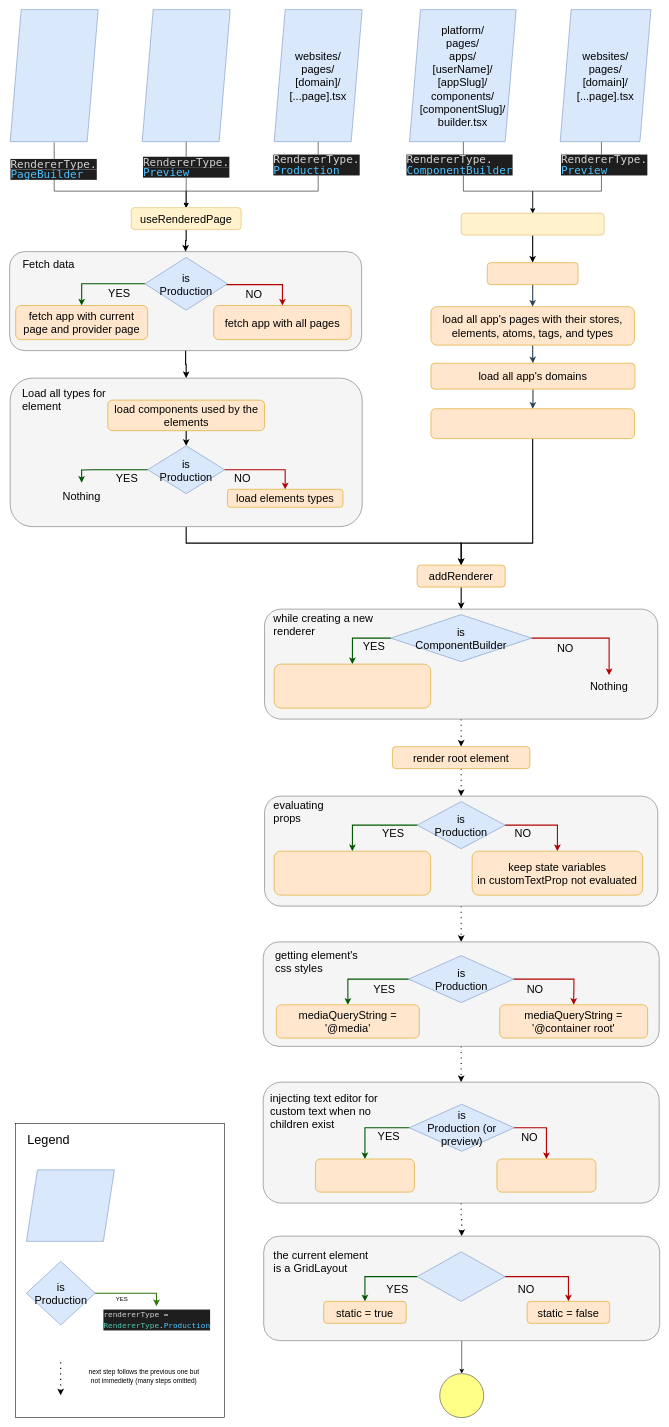
Image size: 669x1427. Some labels were removed from this diagram. Here are the shapes that lost their labels. From the top down, the centre of each, then its label:
At point (54, 75): "platform/ pages/ apps/ [userName]/ [appSlug]/ pages/ [pageSlug]/ builder.tsx".
At point (186, 75): "platform/ pages/ apps/ [userName]/ [appSlug]/ pages/ [pageSlug]/ index.tsx".
At point (532, 224): "useRenderedComponent".
At point (532, 273): "load current app".
At point (532, 423): "load the component with its elements".
At point (352, 686): "add runtime props of the component to the renderer".
At point (352, 873): "evalue state variables in customTextProp".
At point (364, 1175): "make text editor readonly".
At point (546, 1175): "make text editor editable".
At point (70, 1205): "Page from which a renderer is created".
At point (461, 1276): "is preview".
At point (461, 1395): "Element is rendered with its children".
